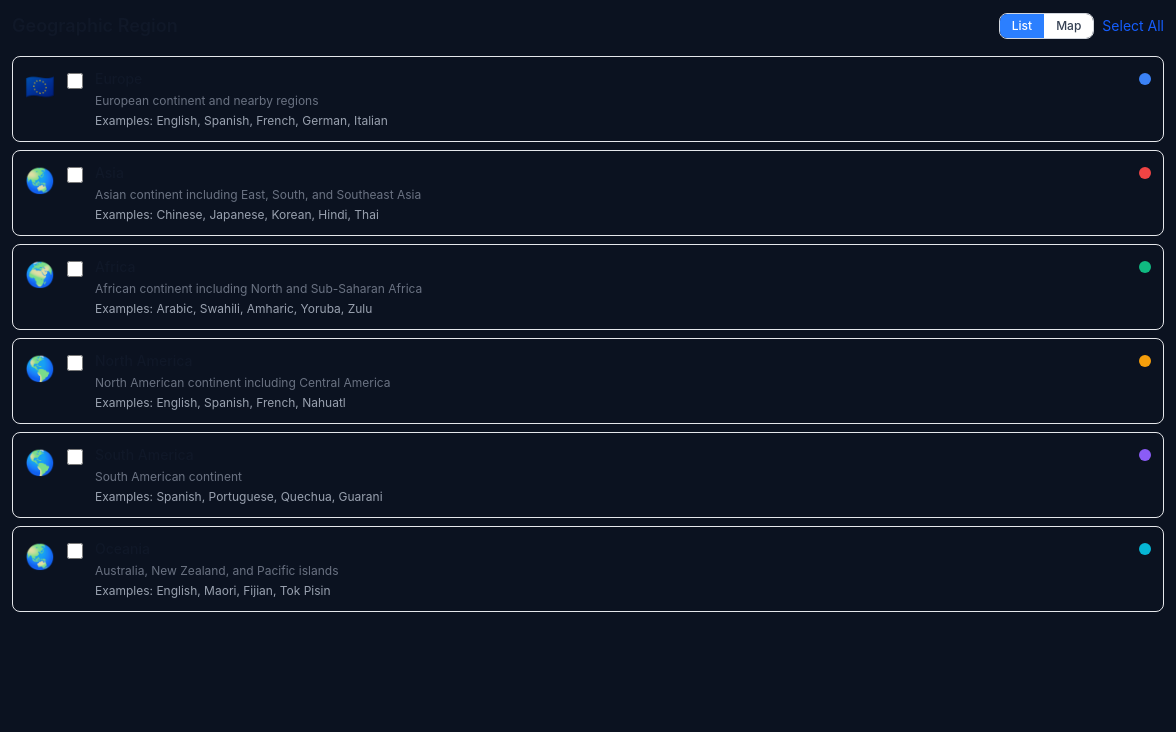
GeographicRegionFilter › 视图切换 › 应该支持切换到地图视图
The image size is (1176, 732).
Click the button "Map".
click(1069, 26)  # box left=1044, top=14, right=1093, bottom=38
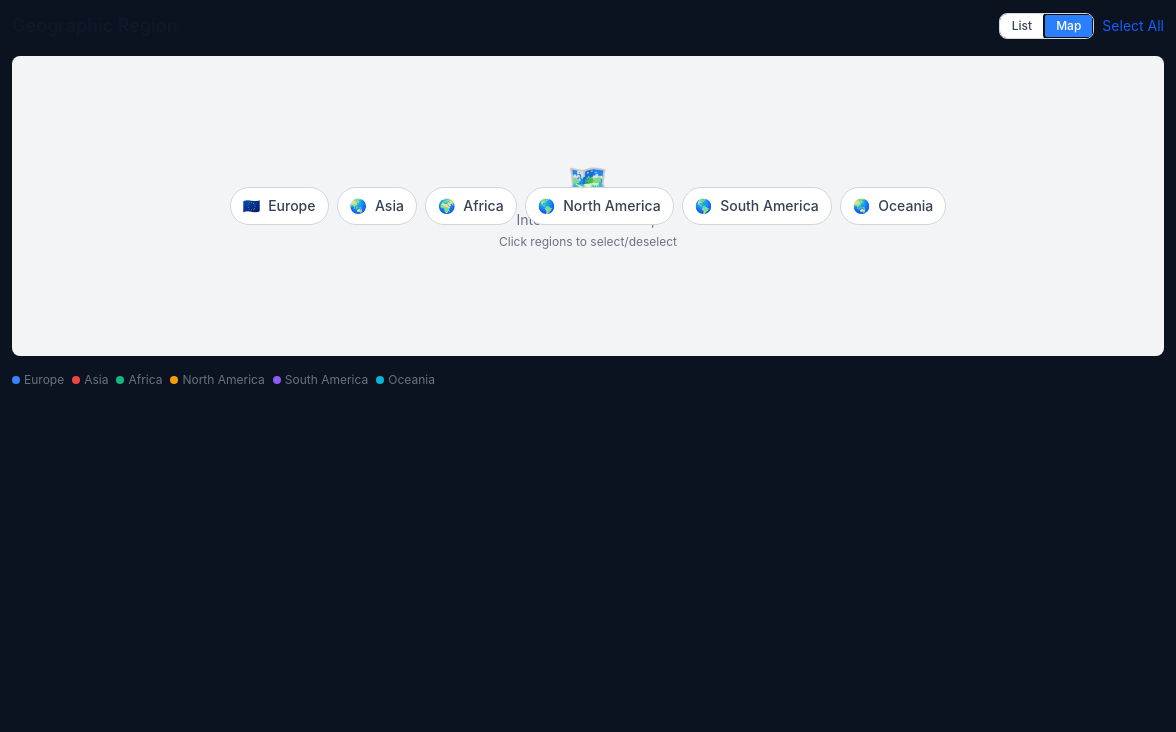
Result: the text "Interactive world map" is shown at left=516, top=211, right=660, bottom=228
